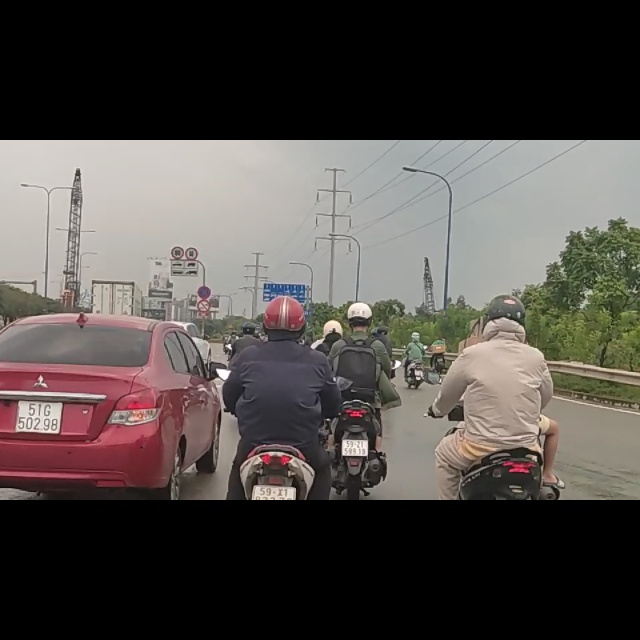bien_chi_dan: (197, 258, 211, 282)
